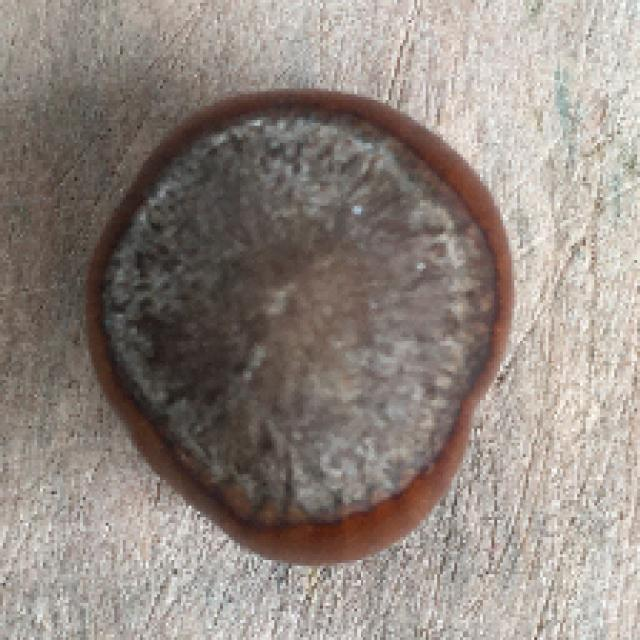qualityHazelnut: (64, 88, 526, 559)
